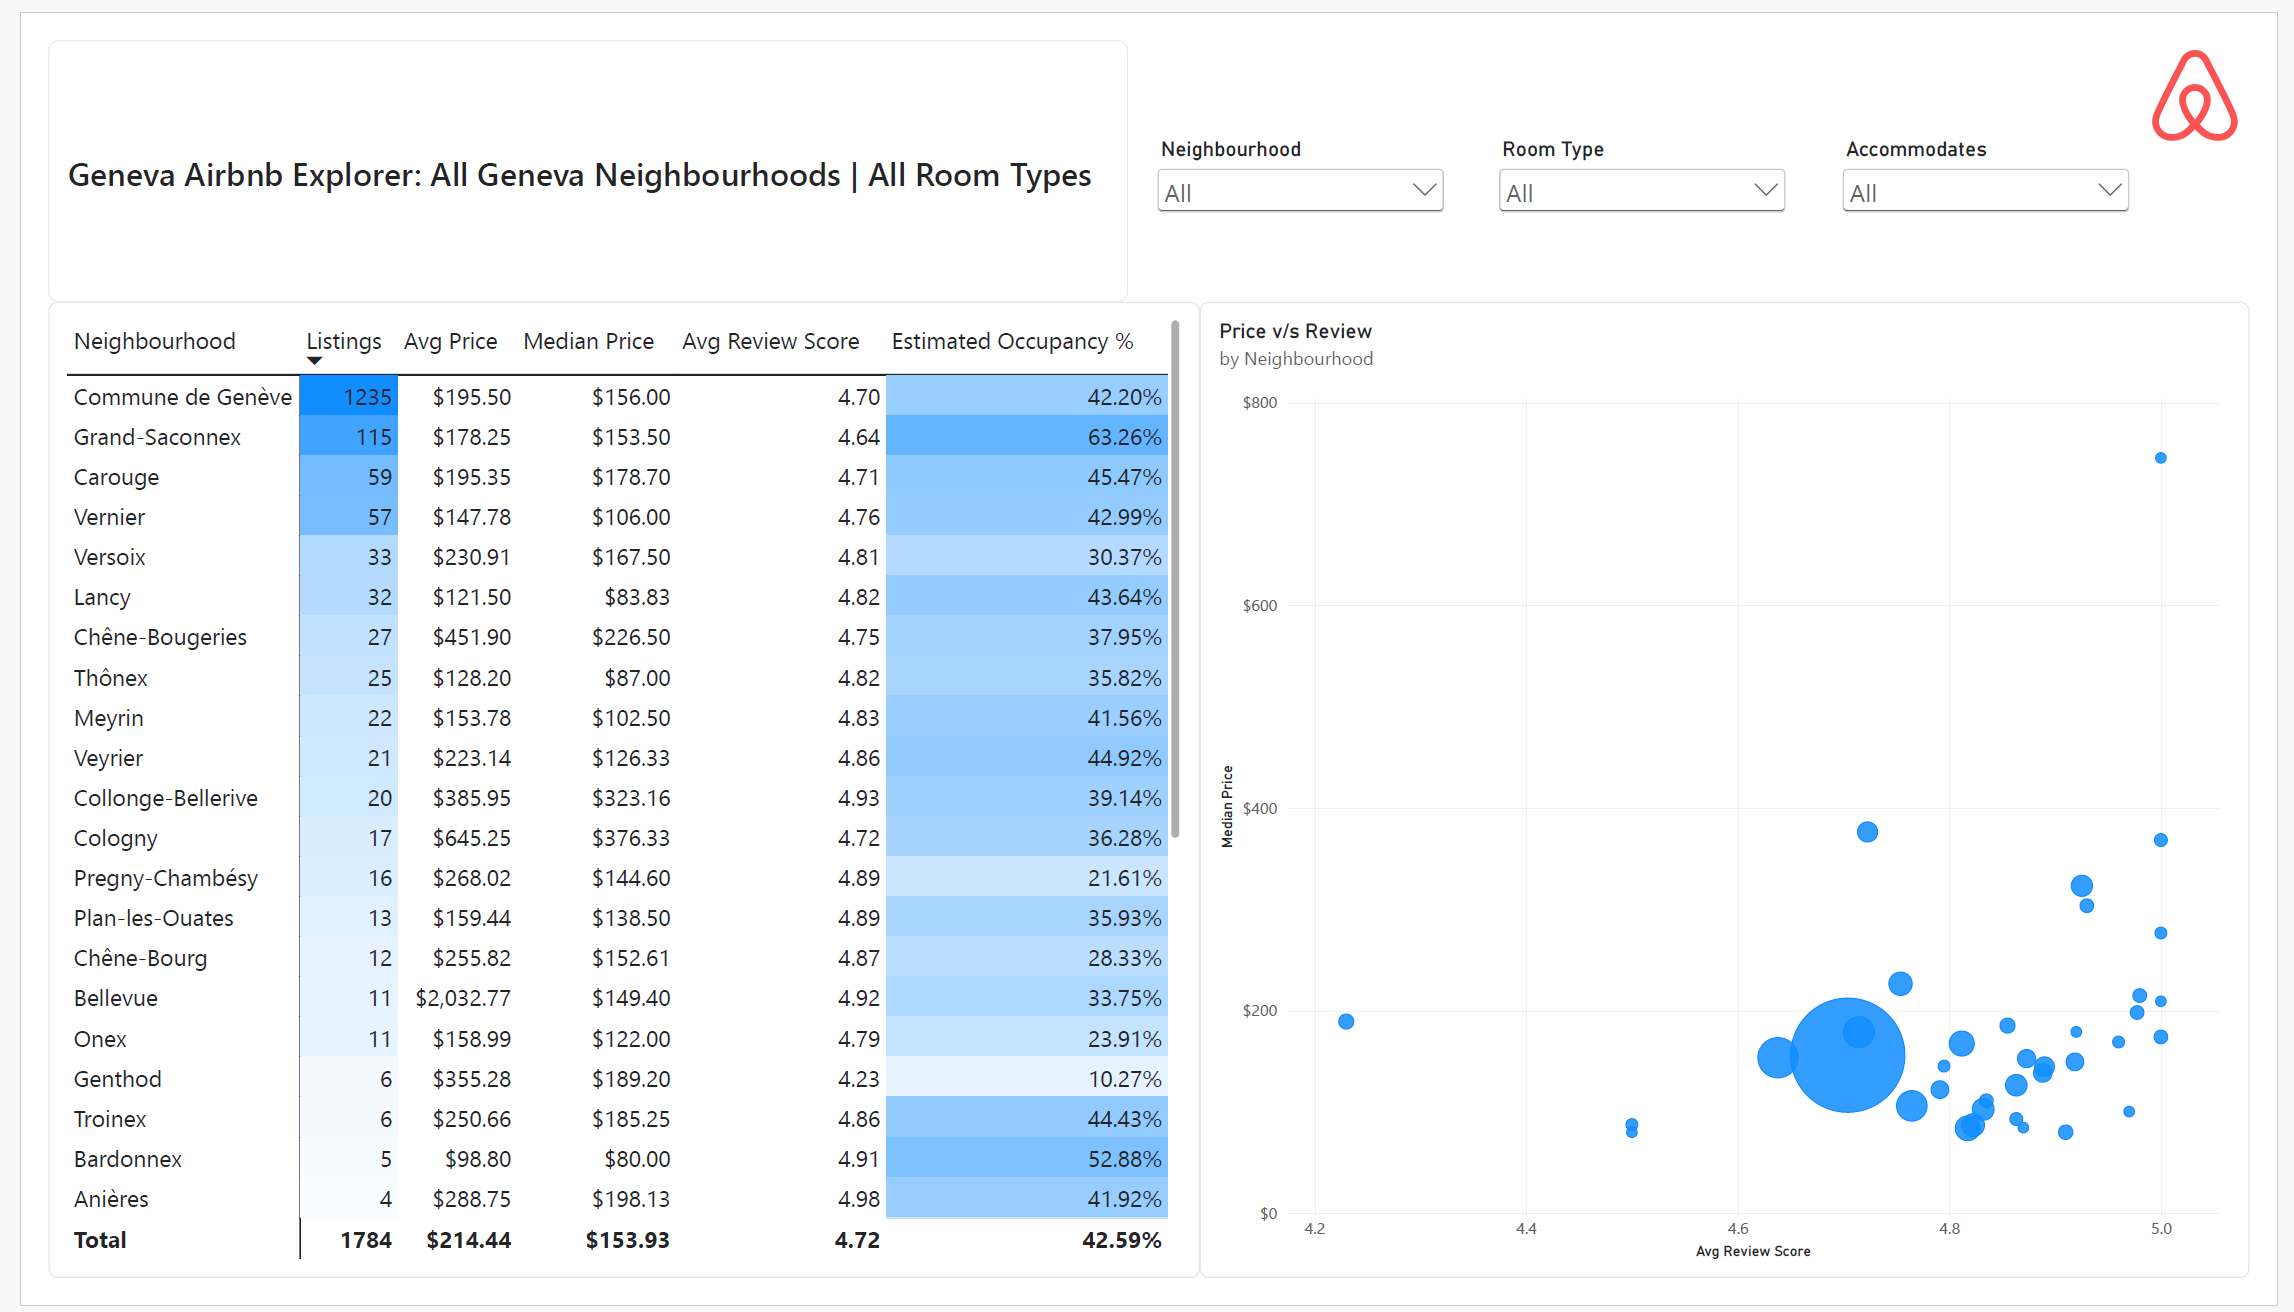

Layout of this report page (visuals, bound fields, positions):
{"tool":"powerbi","page":{"name":"Neighbourhood Comparison","canvas":[1920,1080],"ordinal":2},"visuals":[{"type":"image","box":[1825,0,95,95],"z":0},{"type":"cardVisual","fields":{"Data":["_Measures.Dynamic Report Title"]},"box":[0,0,942,228],"z":1000},{"type":"pivotTable","fields":{"Rows":["DimNeighbourhood.Neighbourhood Cleansed"],"Values":["_Measures.Listings","_Measures.Avg Price","_Measures.Median Price","_Measures.Avg Review Score","_Measures.Estimated Occupancy %"]},"box":[0,228,1004,852],"z":2000},{"type":"scatterChart","title":"Price v/s Review","fields":{"Category":["DimNeighbourhood.Neighbourhood Cleansed"],"Size":["_Measures.Listings"],"X":["_Measures.Avg Review Score"],"Y":["_Measures.Median Price"]},"box":[1004,228,916,852],"z":3000},{"type":"slicer","fields":{"Values":["DimNeighbourhood.Neighbourhood Cleansed"]},"box":[942,64,299.6,114],"z":4000},{"type":"slicer","fields":{"Values":["DimRoomType.Room Type"]},"box":[1240.4,64,299.6,114],"z":5000},{"type":"slicer","fields":{"Values":["FactListings.Accommodates"]},"box":[1540.4,64,299.6,114],"z":6000}]}

Visuals, with their boxes in screenshot pixels (x1, y1, x2, y2), scaled from the page's 1920x1080 canvas onto the 2294x1312 screenshot:
image: x1=2180 y1=0 x2=2293 y2=115
cardVisual - _Measures.Dynamic Report Title: x1=0 y1=0 x2=1125 y2=277
pivotTable - DimNeighbourhood.Neighbourhood Cleansed x _Measures.Listings: x1=0 y1=277 x2=1200 y2=1311
"Price v/s Review" scatterChart: x1=1200 y1=277 x2=2293 y2=1311
slicer - DimNeighbourhood.Neighbourhood Cleansed: x1=1125 y1=78 x2=1483 y2=216
slicer - DimRoomType.Room Type: x1=1482 y1=78 x2=1840 y2=216
slicer - FactListings.Accommodates: x1=1840 y1=78 x2=2198 y2=216
